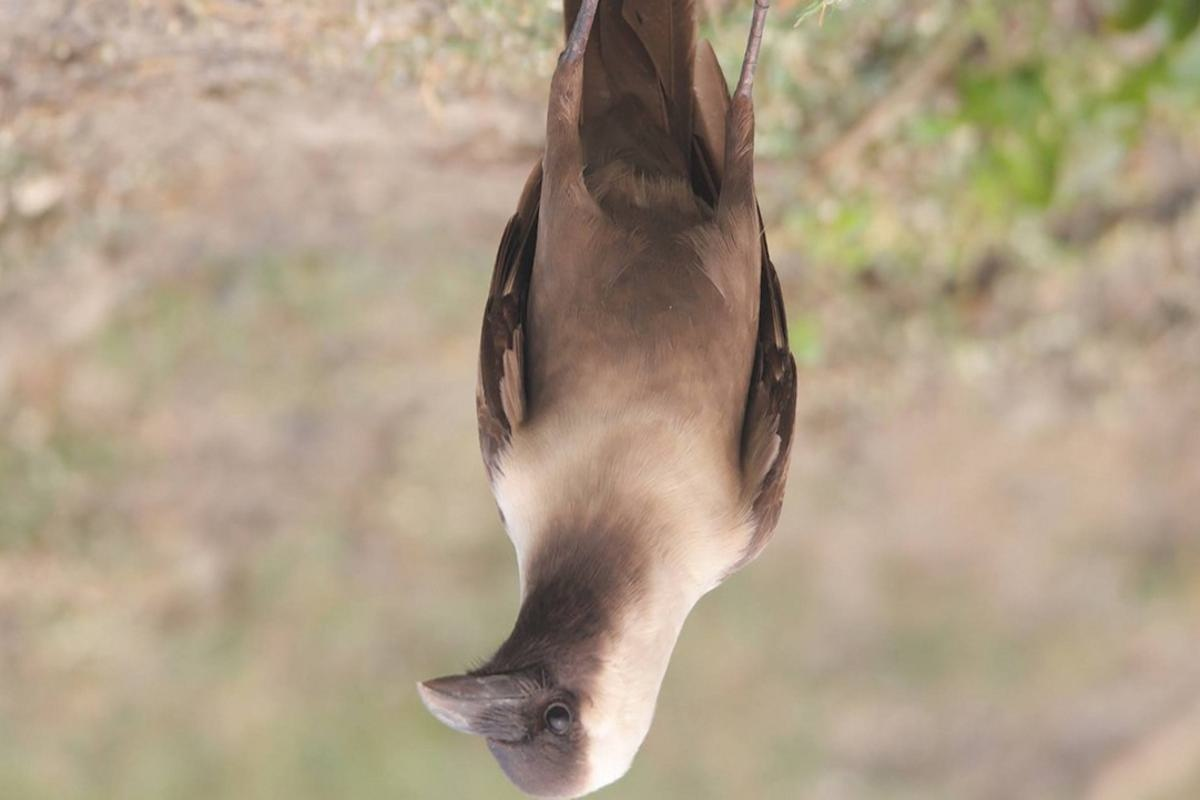crow: (415, 1, 801, 799)
